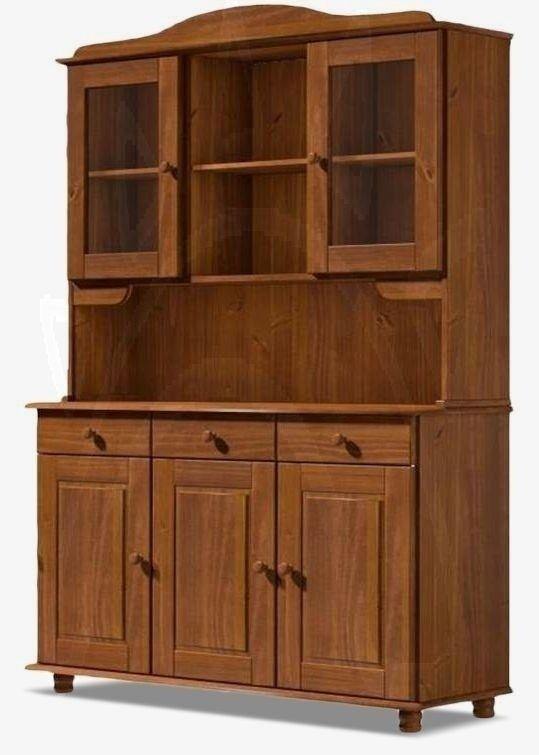cabinet_door: (281, 466, 413, 690), (311, 40, 437, 271), (157, 460, 280, 677), (72, 66, 180, 277), (44, 457, 152, 666), (281, 418, 415, 466), (151, 412, 275, 461), (42, 415, 151, 458)
handle: (330, 428, 352, 457), (157, 156, 180, 180), (203, 425, 221, 453), (252, 556, 272, 579), (84, 423, 100, 446), (279, 560, 295, 583), (306, 148, 322, 169), (131, 548, 146, 568)
